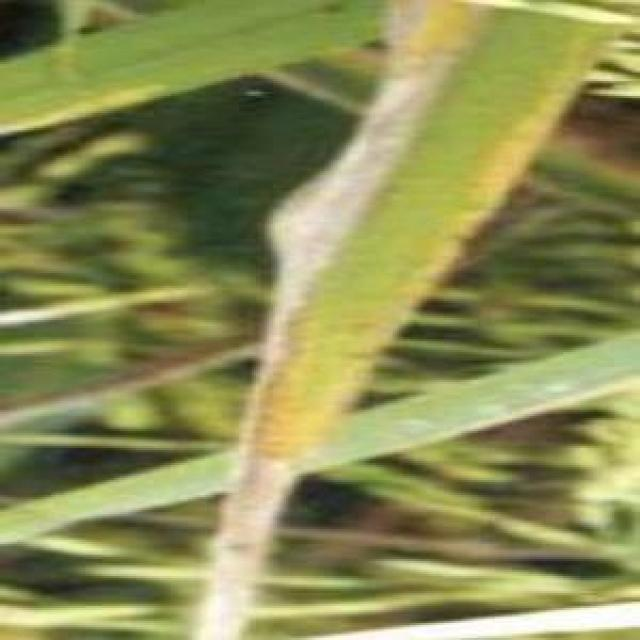Bacterial_Blight: (186, 49, 454, 640)
